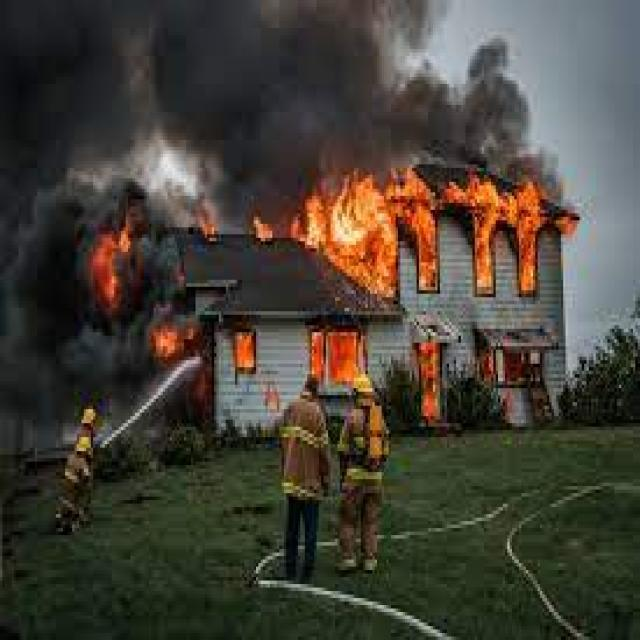Fire: (382, 160, 581, 305), (318, 152, 395, 296), (93, 213, 128, 309)
Smoke: (0, 0, 572, 171), (0, 140, 101, 393)
